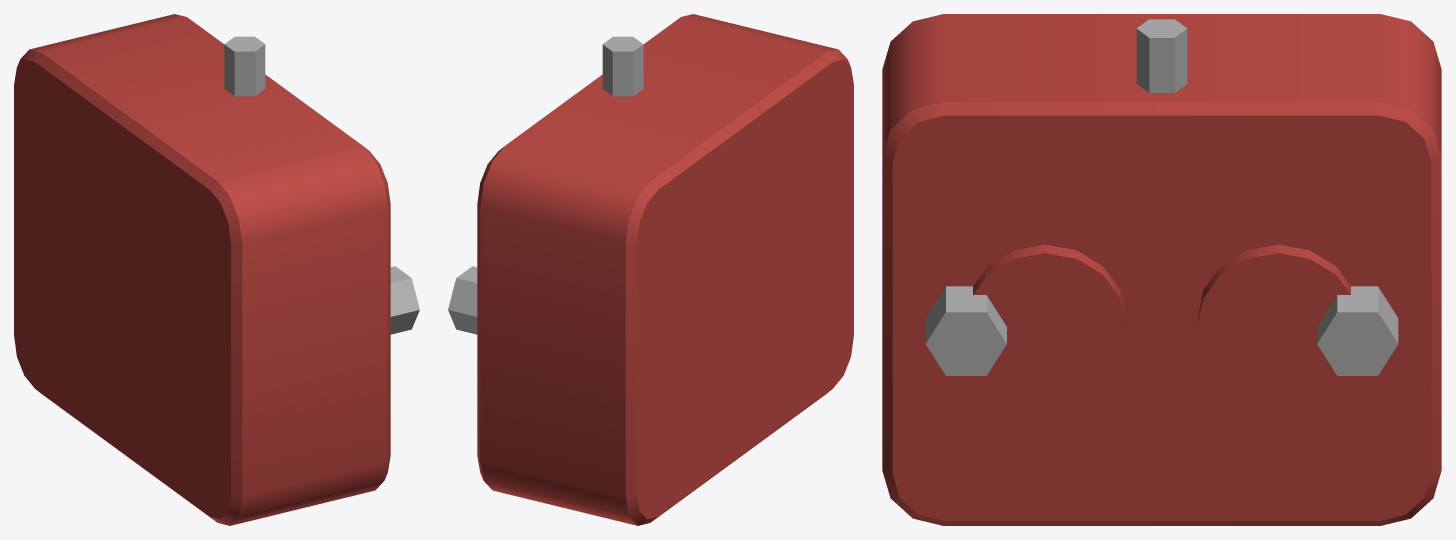
File: four_piston_axial.glb
3 renders of one model, left to right at view 1: azimuth 30°, elevation 25°; view 2: azimuth 150°, elevation 25°; view 3: azimuth 270°, elevation 25°, orthographic. The views are drawn at different scales.
Parts seen in each view (by area): view 1: lod0; view 2: lod0; view 3: lod0.
Part boxes in pixels (x1,y1,x2,y2): lod0: [14, 14, 419, 525]; lod0: [448, 14, 853, 525]; lod0: [882, 14, 1441, 525].
Size of what is drawn, in the model's own units: 0.057 by 0.104 by 0.11.
